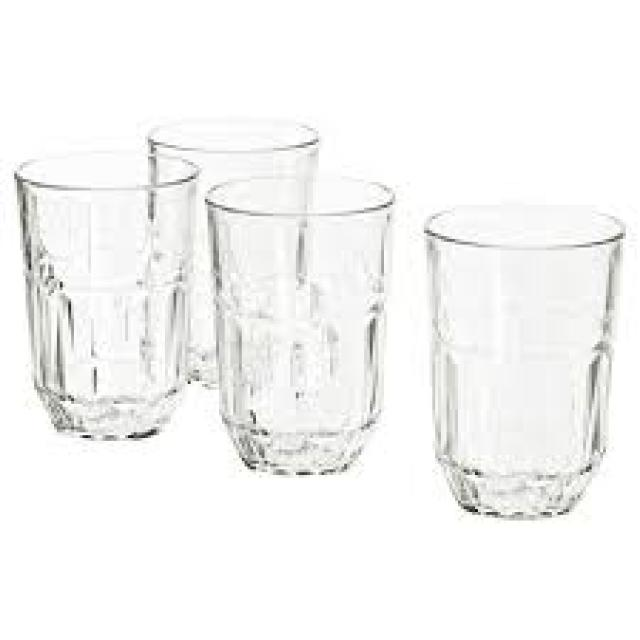glass: (421, 199, 620, 515), (205, 174, 390, 475), (15, 145, 194, 435), (145, 111, 316, 381)
